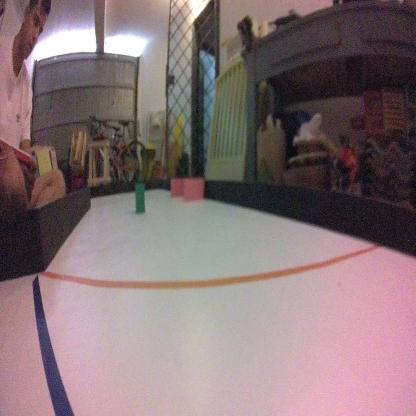green: (134, 183, 144, 215)
magenta: (180, 174, 204, 206), (169, 175, 188, 199)
